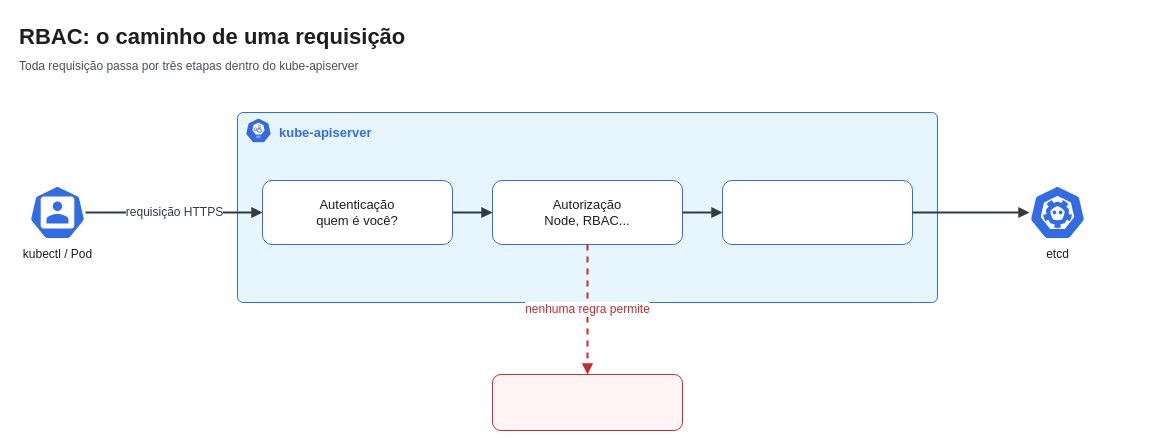
The diagram is 1154 pixels wide and 448 high, and some of its shapes have lost their labels. The centre of each missing label's shape, as x and y in pixels:
"403 Forbidden" goes at pixel 587 402.
"Admission control mutação e validação" goes at pixel 817 212.
